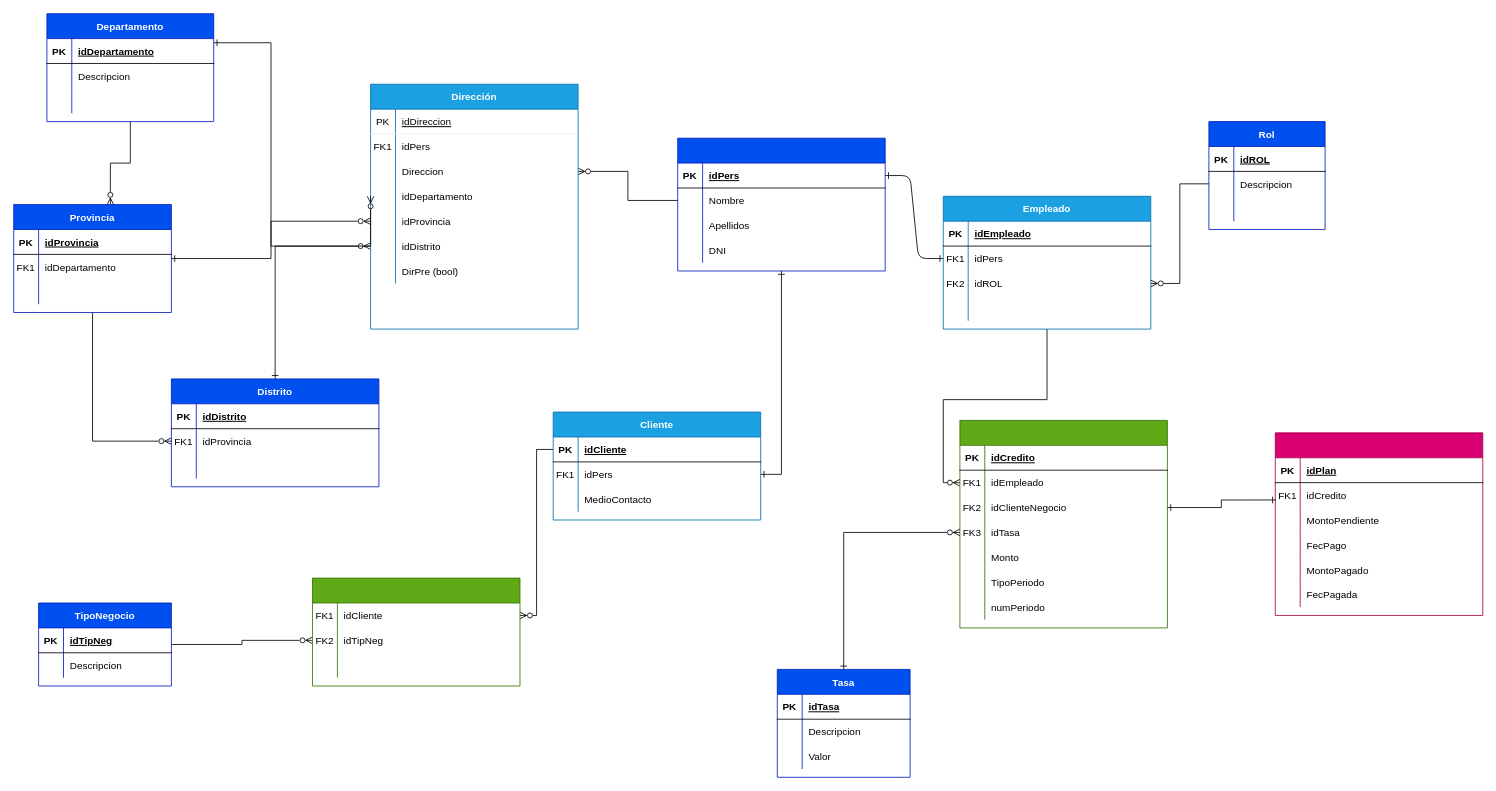
The diagram is 1496 pixels wide and 791 high, and some of its shapes have lost their labels. Here are the shapes that lost their labels. From the top down, the box of each, then its label:
(677, 137, 885, 271): Persona
(959, 420, 1167, 628): Crédito
(1274, 432, 1483, 615): PlanPagos
(312, 577, 520, 686): Cliente_Negocio
